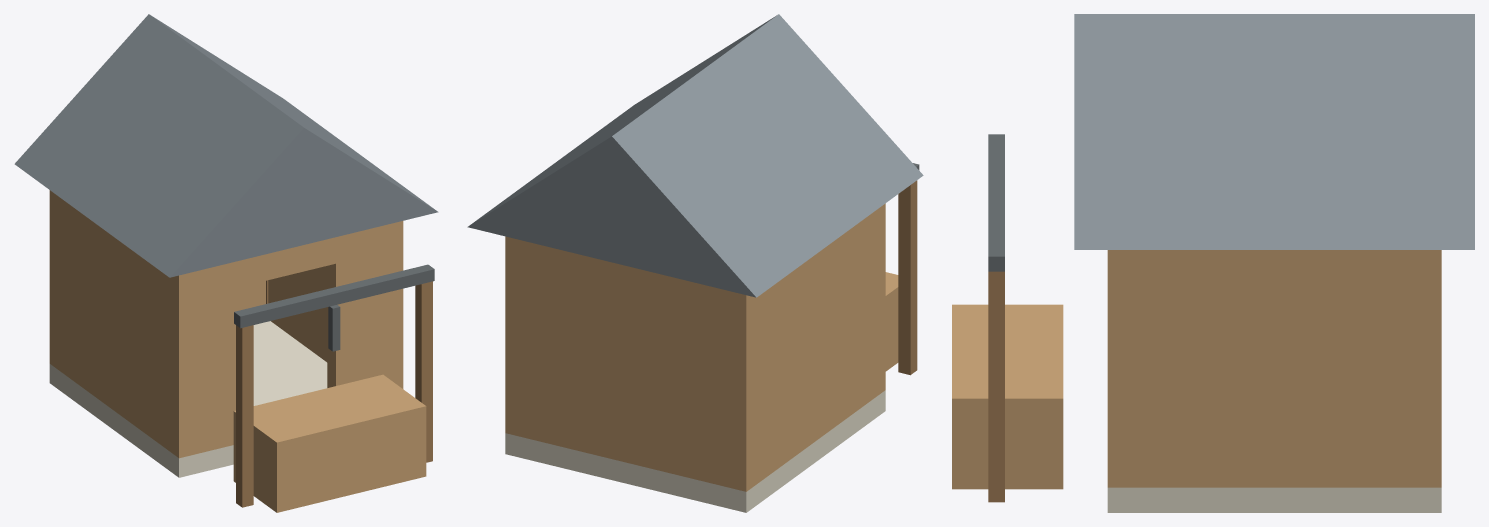
The model's file is butchery.glb.
3 views of the same model, side by side, from view 1: azimuth 30°, elevation 25°; view 2: azimuth 150°, elevation 25°; view 3: azimuth 270°, elevation 25° (orthographic). The views are drawn at different scales.
Parts seen in each view (by area): view 1: butchery; view 2: butchery; view 3: butchery.
Boxes of the visible parts, box(x1,y1,x2,y2) form: butchery: box(14, 14, 438, 512); butchery: box(467, 14, 923, 512); butchery: box(952, 14, 1474, 512).
Bounding box in the file's own units: 3.6 × 4.25 × 4.7.
